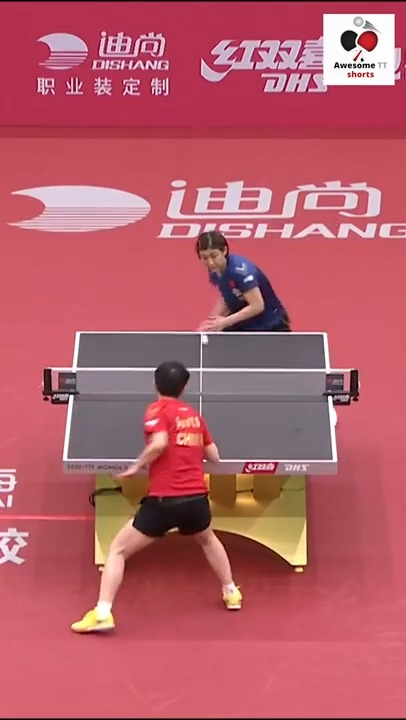Ball: (200, 336, 208, 346)
